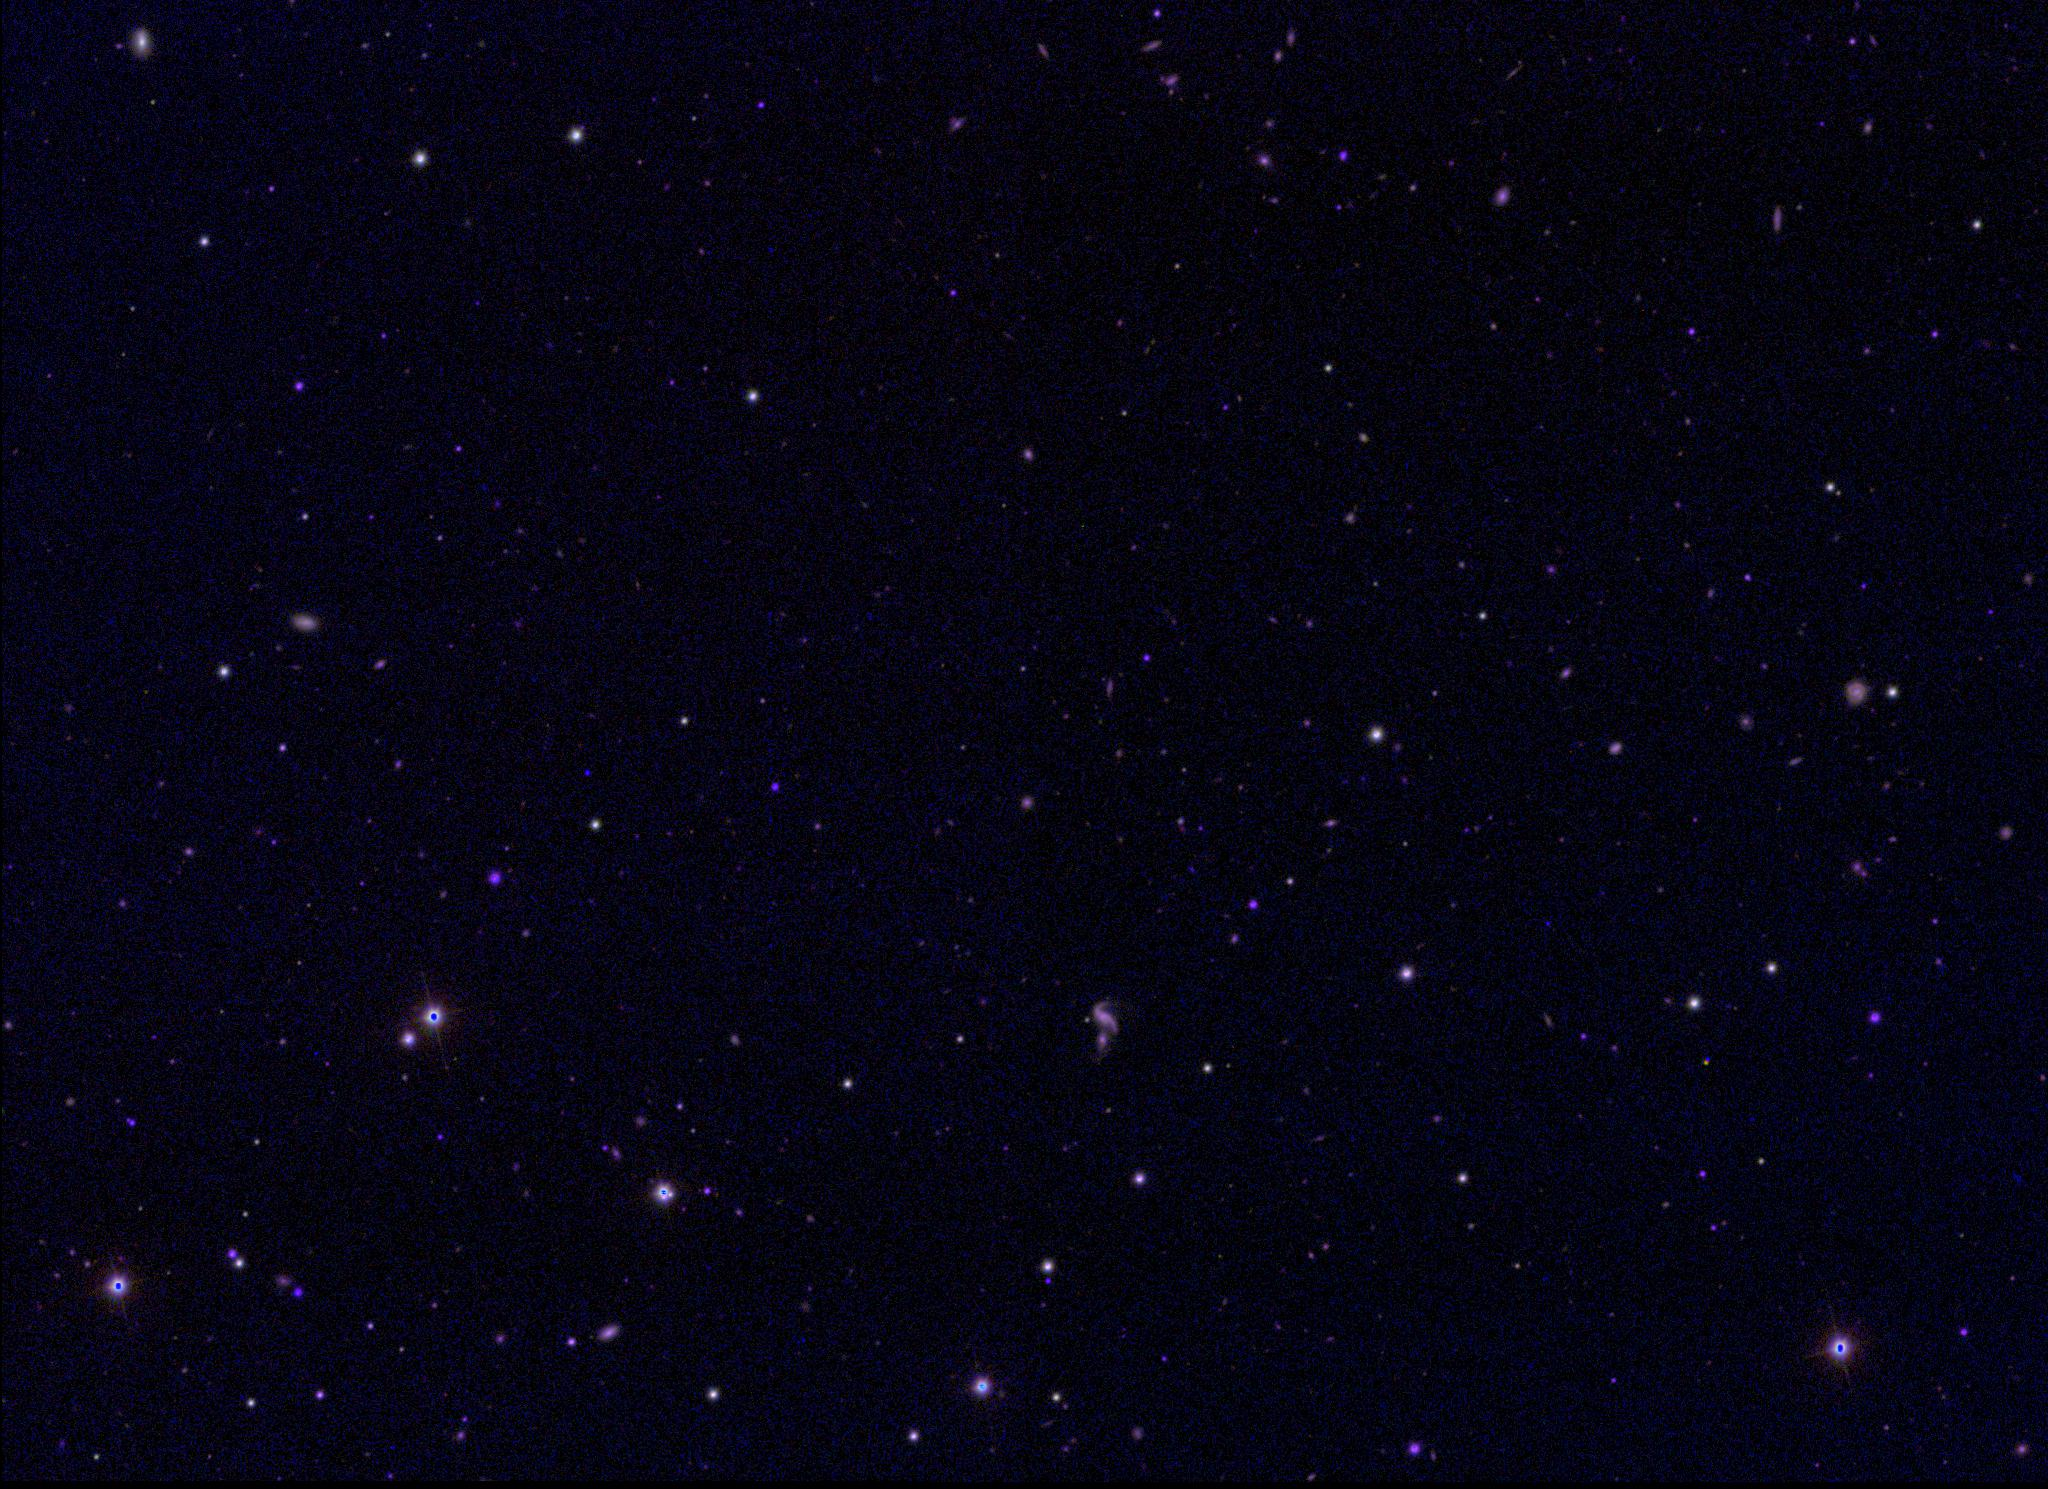L: (580, 767, 595, 779)
